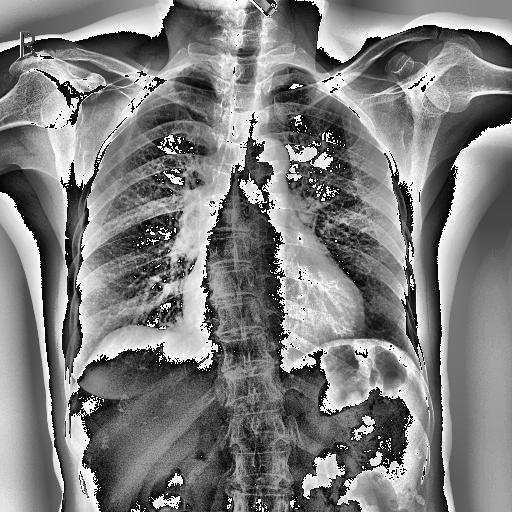0- Aortic enlargement: (254, 140, 290, 172)
3- Cardiomegaly: (182, 266, 366, 338), (178, 288, 367, 350), (182, 281, 364, 344)
